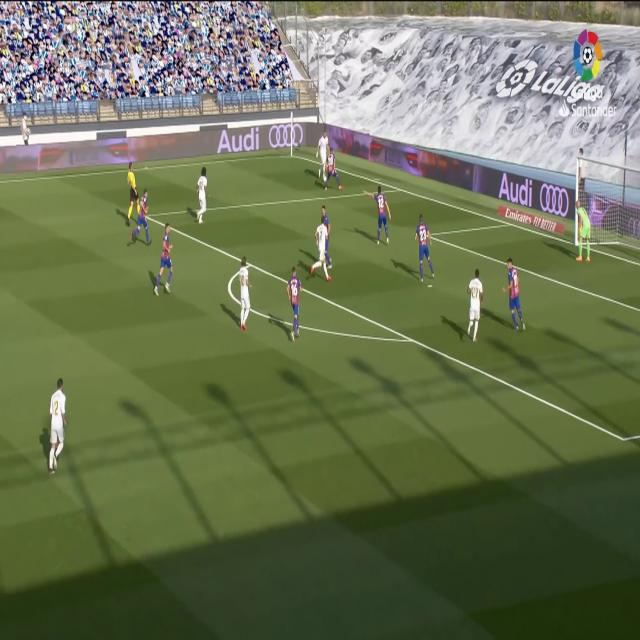ball: (323, 175, 327, 182)
team1: (498, 250, 527, 338), (363, 186, 398, 250), (154, 224, 182, 302), (410, 213, 438, 290), (285, 264, 307, 344), (129, 189, 152, 249), (322, 147, 339, 193), (323, 203, 333, 267)
team2: (43, 376, 70, 474), (466, 262, 486, 350), (238, 256, 254, 335), (316, 128, 331, 192), (195, 163, 210, 226)
